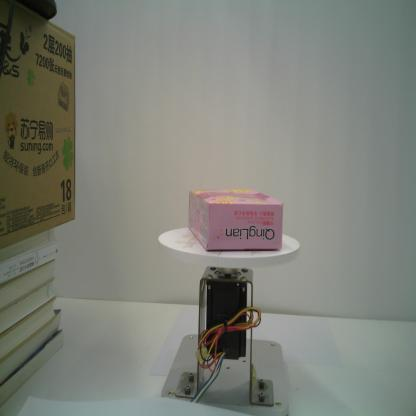Dessert: (188, 189, 284, 251)
